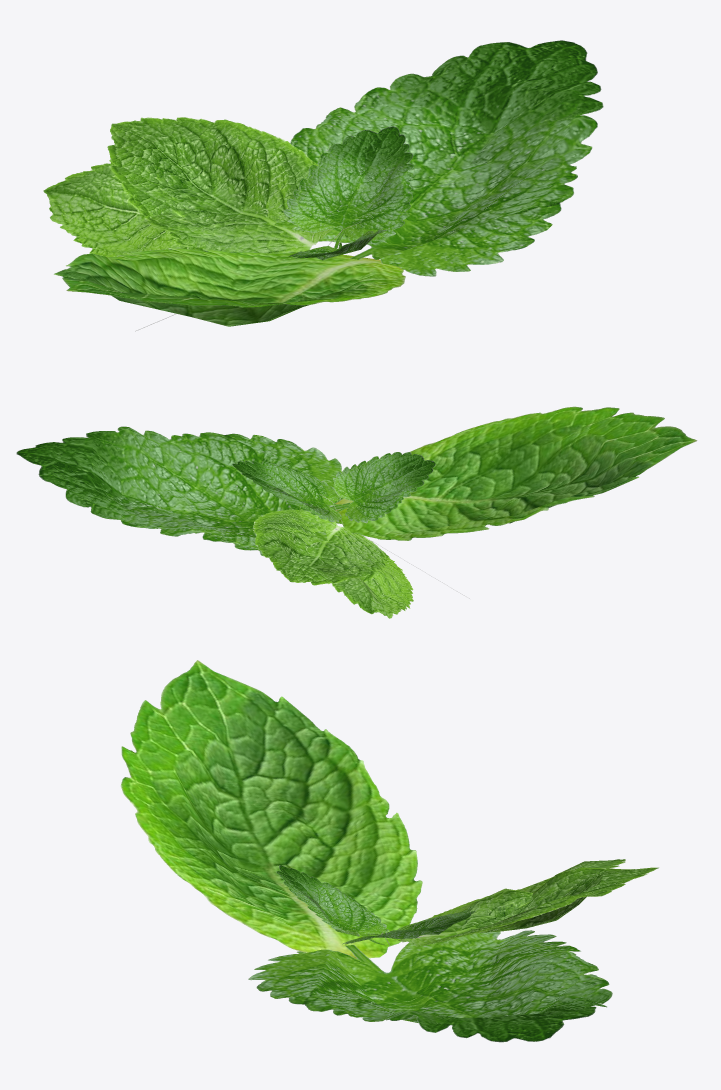
The model's file is Mint.fbx.
3 renders of one model, top to bottom at view 1: azimuth 30°, elevation 25°; view 2: azimuth 150°, elevation 25°; view 3: azimuth 270°, elevation 25°, orthographic. The views are drawn at different scales.
Visible parts, largest first — view 1: MInt; view 2: MInt; view 3: MInt.
Boxes of the visible parts, bbox=[...] form: MInt: bbox=[43, 40, 603, 331]; MInt: bbox=[16, 406, 697, 618]; MInt: bbox=[120, 660, 658, 1042].
Bounding box in the file's own units: 6.43 × 1.34 × 5.16.
1 material, 1 textured.
